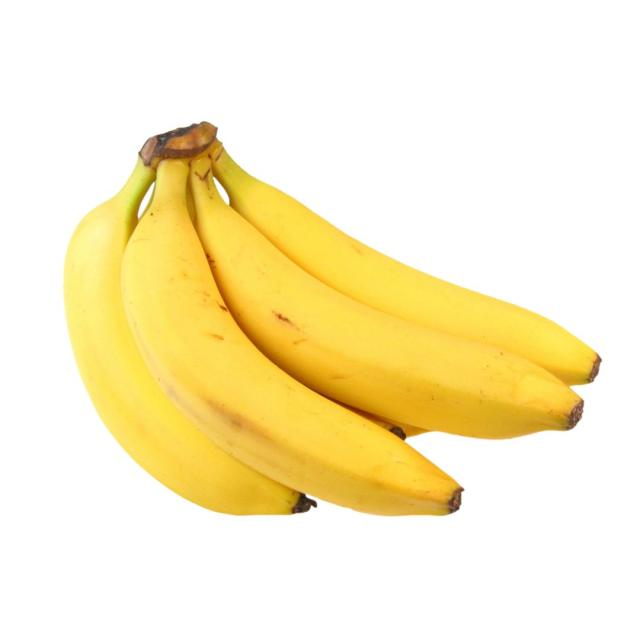Pisang: (68, 122, 592, 518)
